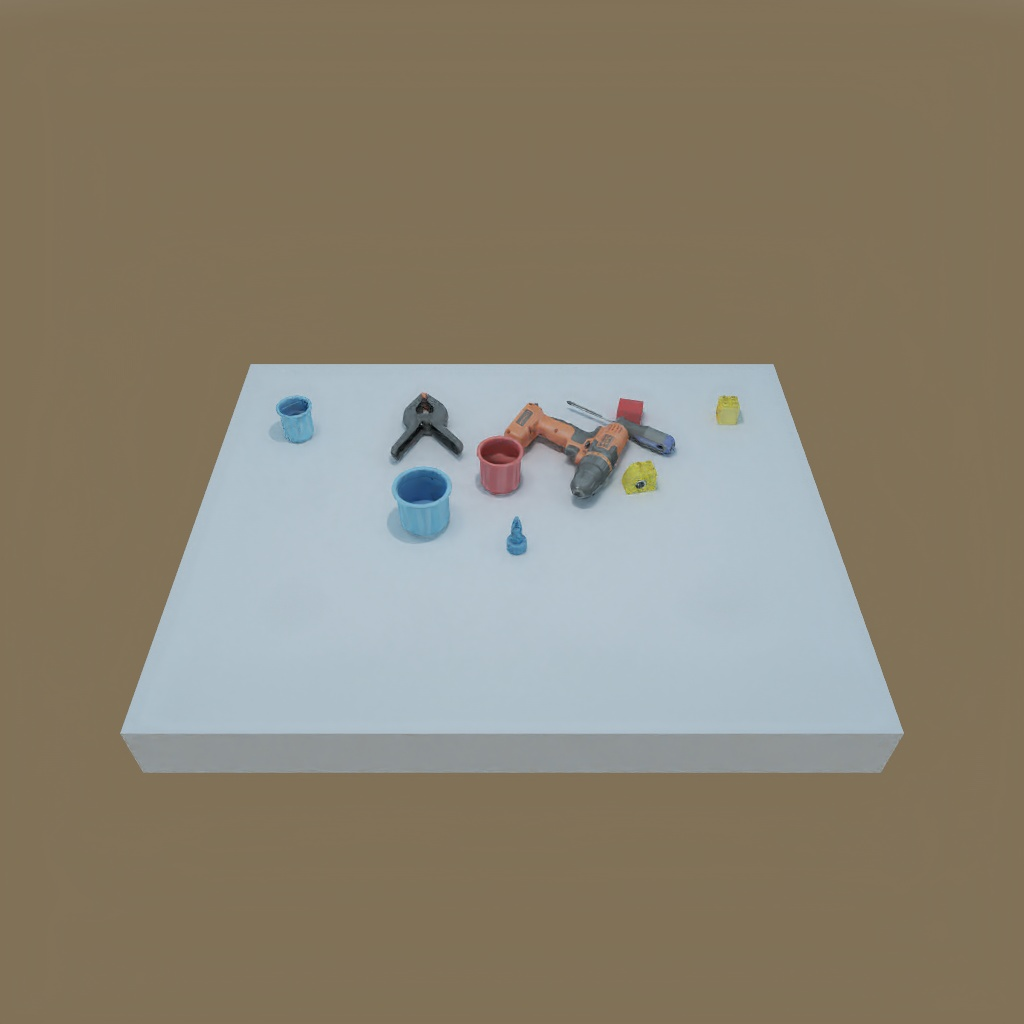power_drill: (511, 401, 625, 501)
